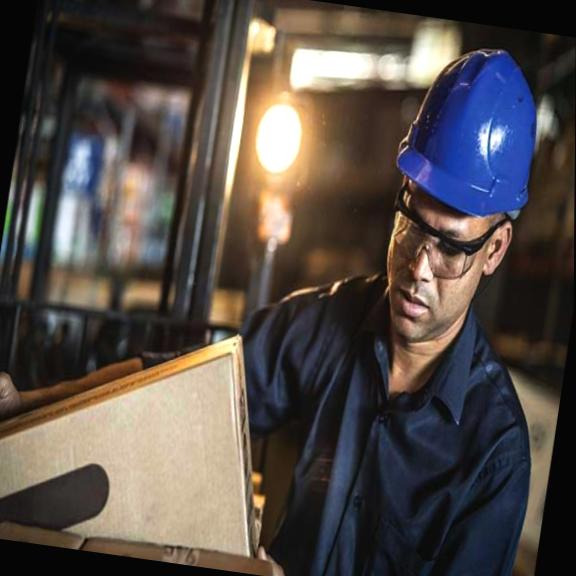no_safety_vest: (266, 254, 546, 576)
